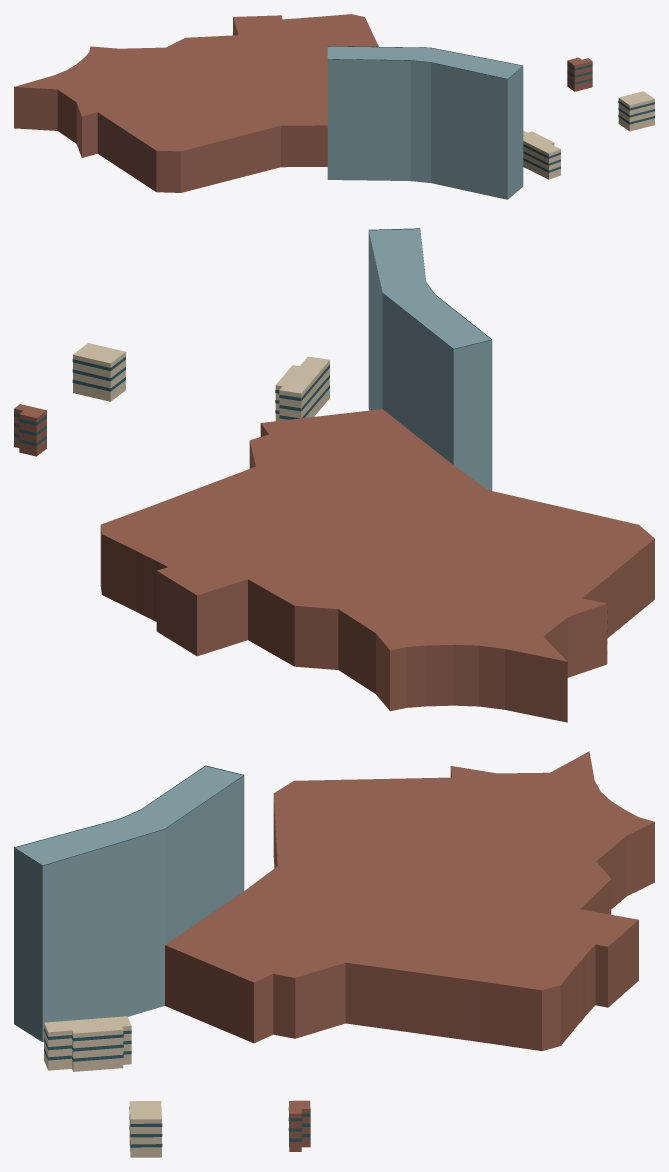
File: city_3_-1.glb
The picture shows the model from 3 angles, top to bottom: view 1: azimuth 30°, elevation 25°; view 2: azimuth 150°, elevation 25°; view 3: azimuth 270°, elevation 25°; orthographic projection. The views are drawn at different scales.
Parts seen in each view (by area): view 1: city_3_-1; view 2: city_3_-1; view 3: city_3_-1.
Boxes of the visible parts, bbox=[...] form: city_3_-1: bbox=[14, 14, 654, 199]; city_3_-1: bbox=[14, 228, 654, 722]; city_3_-1: bbox=[14, 751, 654, 1157].
Bounding box in the file's own units: 290 × 69.25 × 227.
